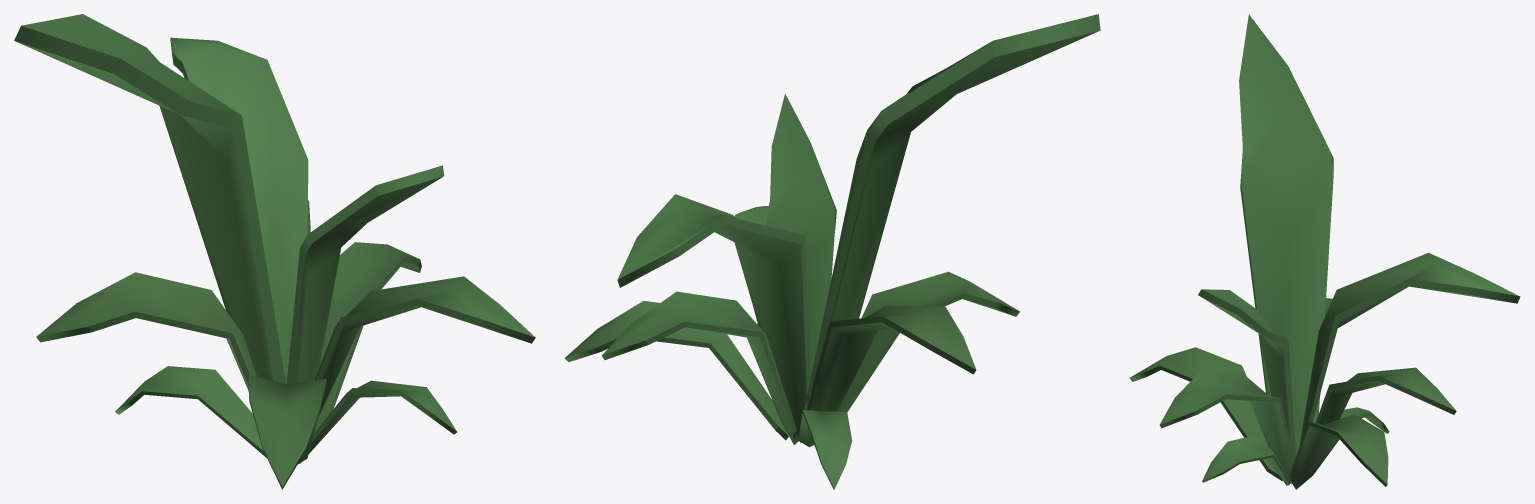
File: SM_Bush_09.fbx
3 views of the same model, side by side, from view 1: azimuth 30°, elevation 25°; view 2: azimuth 150°, elevation 25°; view 3: azimuth 270°, elevation 25° (orthographic). The views are drawn at different scales.
Visible parts, largest first — view 1: SM_Bush_09; view 2: SM_Bush_09; view 3: SM_Bush_09.
Boxes of the visible parts, x1,y1,x2,y2 form: SM_Bush_09: (14, 14, 535, 489); SM_Bush_09: (564, 14, 1100, 489); SM_Bush_09: (1129, 14, 1520, 489).
Size of the model in its own units: 207 by 208 by 200.
